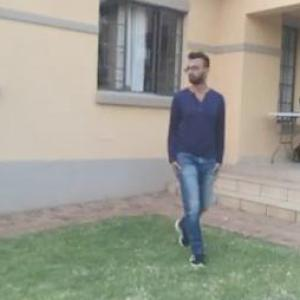follow: (163, 43, 230, 270)
